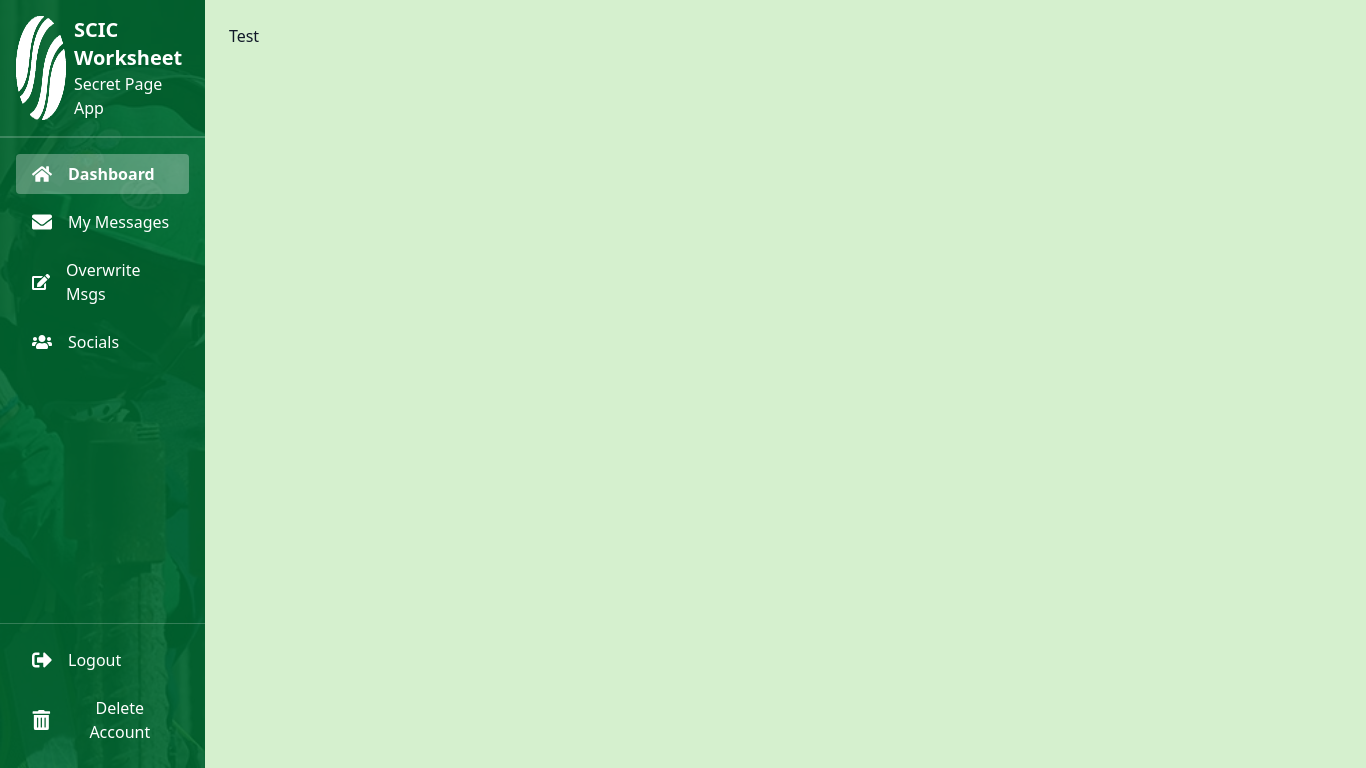
Navigation › opens delete modal when Delete Account is clicked
Click the button "Delete Account".
click(102, 720)  # box top-left (16, 688), bottom-right (189, 752)
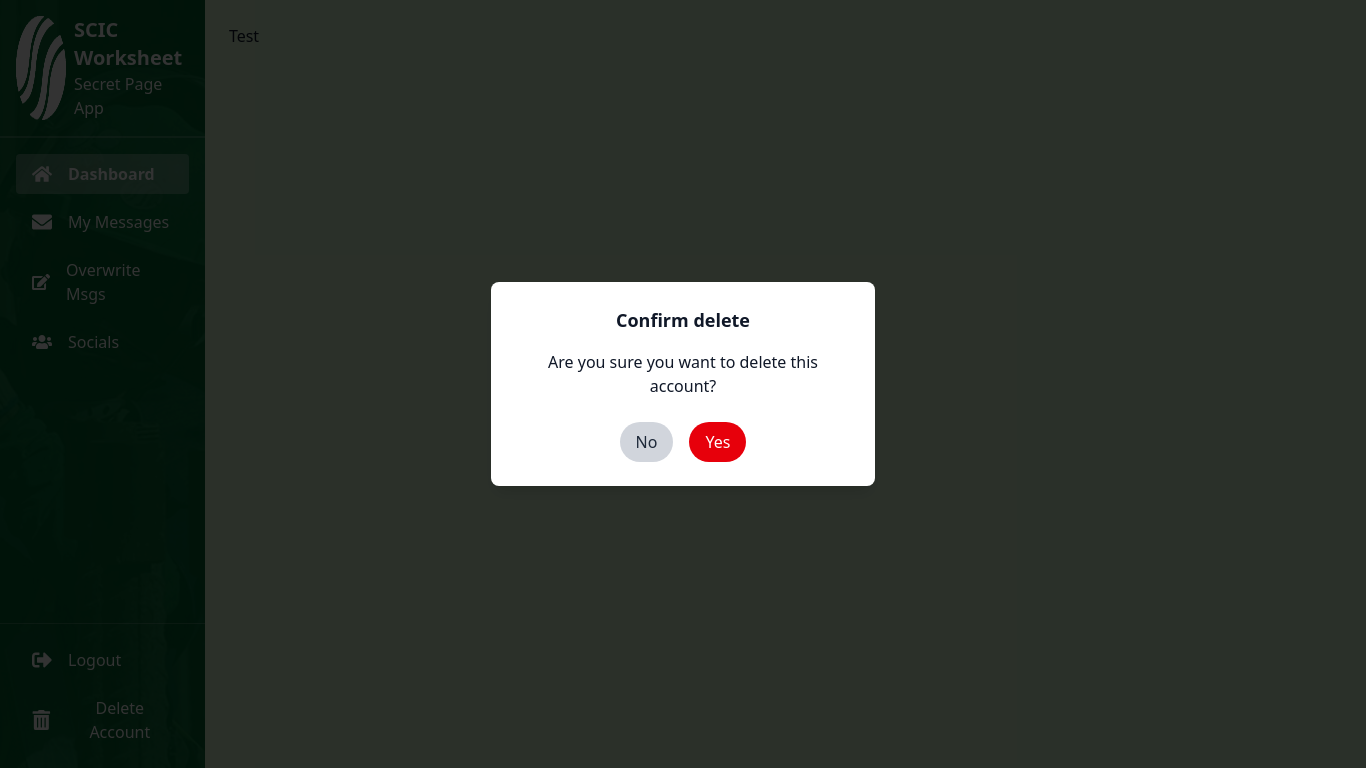
Expected: the text "Are you sure you want to delete this account?" is shown, top-left (548, 351), bottom-right (818, 397)
